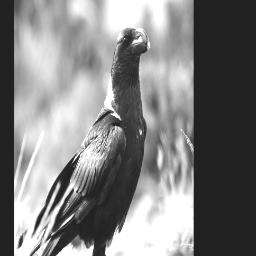Crow: (29, 21, 154, 256)
